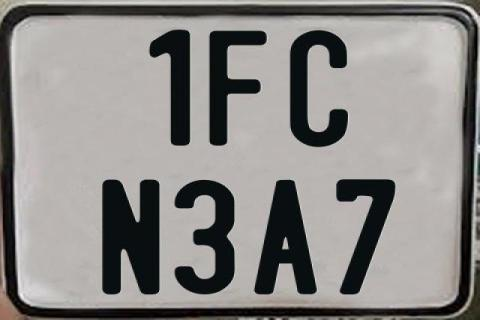0: (171, 180, 236, 298), (336, 178, 399, 294), (148, 30, 189, 148)
A: (254, 180, 320, 294)
C: (287, 30, 346, 148)
F: (209, 29, 267, 147)
N: (102, 179, 161, 299)
